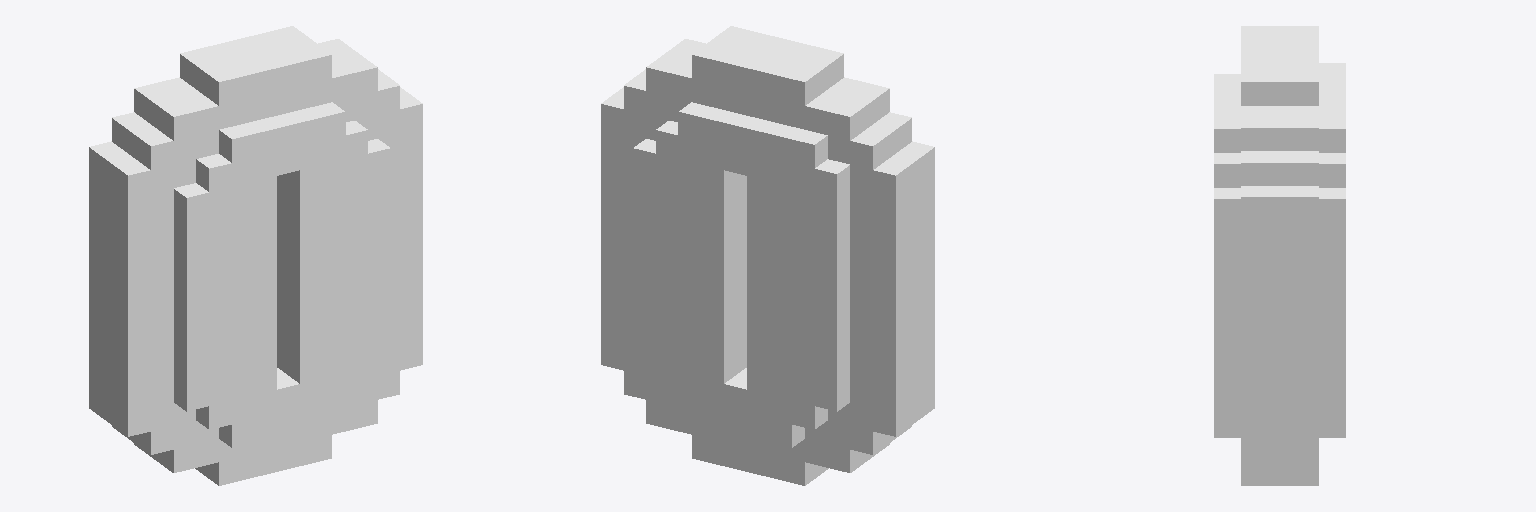
File: Money.obj
3 views of the same model, side by side, from view 1: azimuth 30°, elevation 25°; view 2: azimuth 150°, elevation 25°; view 3: azimuth 270°, elevation 25° (orthographic).
Visible parts, largest first — view 1: object 1; view 2: object 1; view 3: object 1.
Part boxes in pixels (x1,y1,x2,y2): object 1: (89,26,422,485); object 1: (601,26,934,485); object 1: (1214,26,1345,485).
Size of the model in its own units: 1.3 by 1.7 by 0.5.